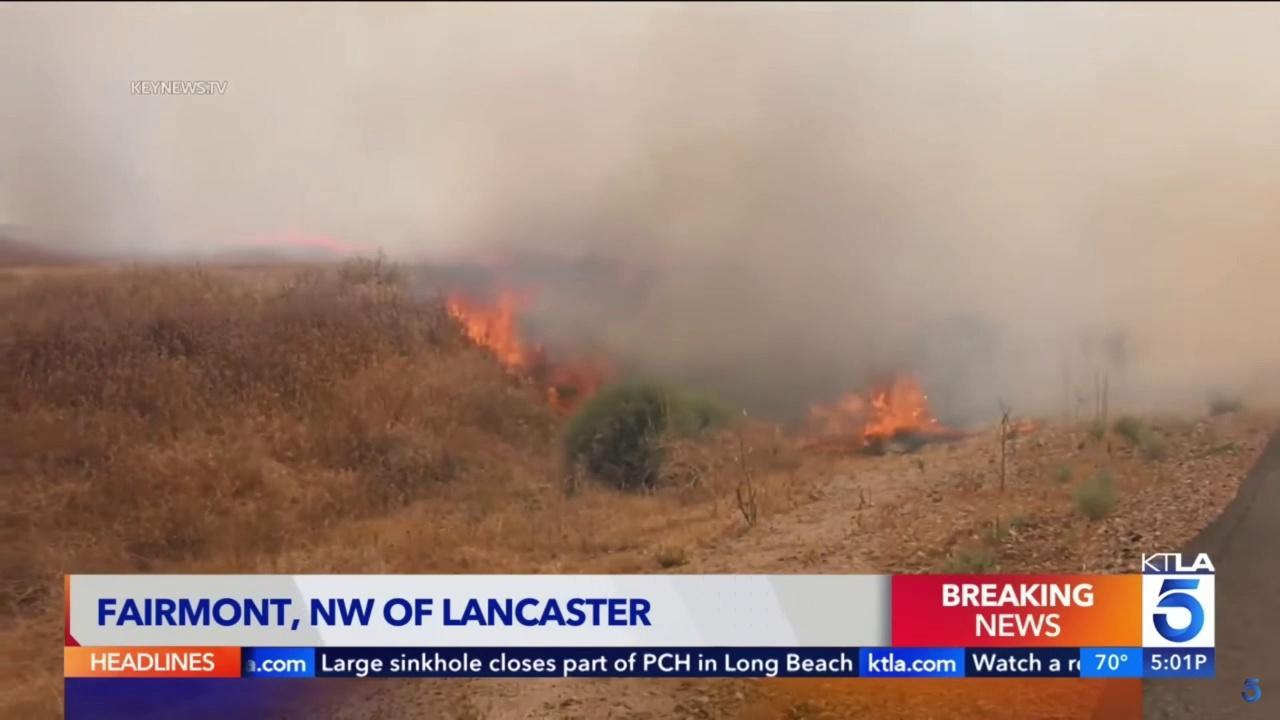fire: (440, 275, 623, 418), (793, 379, 978, 441), (236, 231, 376, 255)
smoke: (0, 0, 1280, 421)
